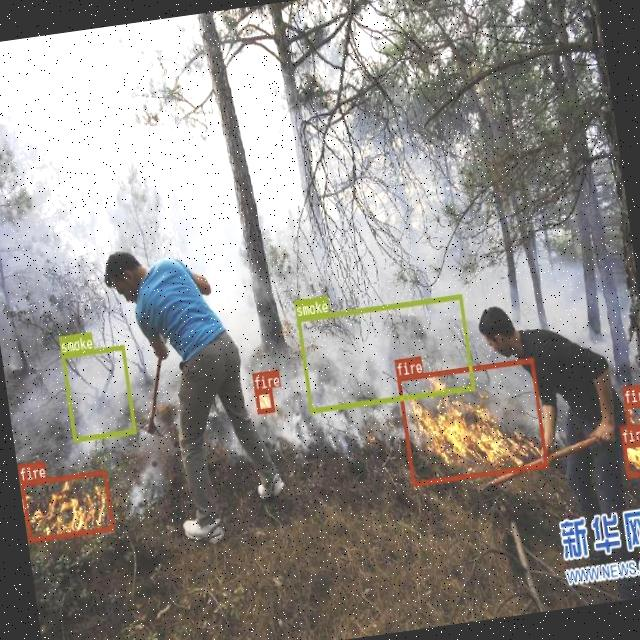fire: (397, 358, 548, 486), (20, 469, 114, 542), (622, 440, 640, 477), (254, 388, 274, 412), (624, 400, 640, 430)
smoke: (296, 293, 474, 412), (61, 344, 136, 442)
